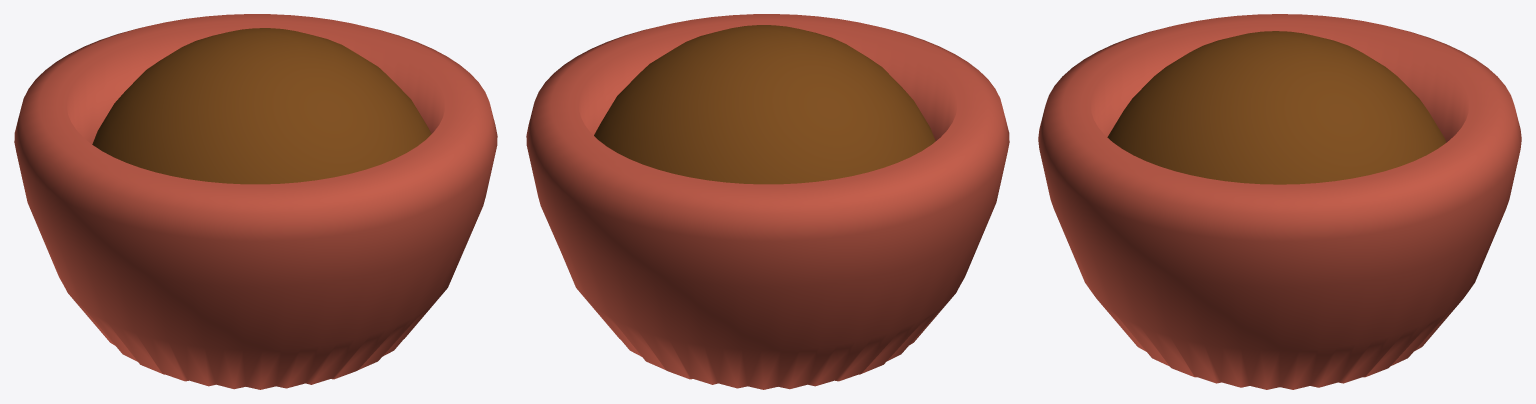
Rendered from Motoño tierracota.fbx.
The picture shows the model from 3 angles, left to right: view 1: azimuth 30°, elevation 25°; view 2: azimuth 150°, elevation 25°; view 3: azimuth 270°, elevation 25°; orthographic projection.
Visible parts, largest first — view 1: Sphere.008; view 2: Sphere.008; view 3: Sphere.008.
Boxes of the visible parts, bbox=[...] form: Sphere.008: bbox=[14, 14, 497, 389]; Sphere.008: bbox=[526, 14, 1009, 389]; Sphere.008: bbox=[1038, 14, 1521, 389].
Size of the model in its own units: 31.21 by 23.13 by 31.21.
